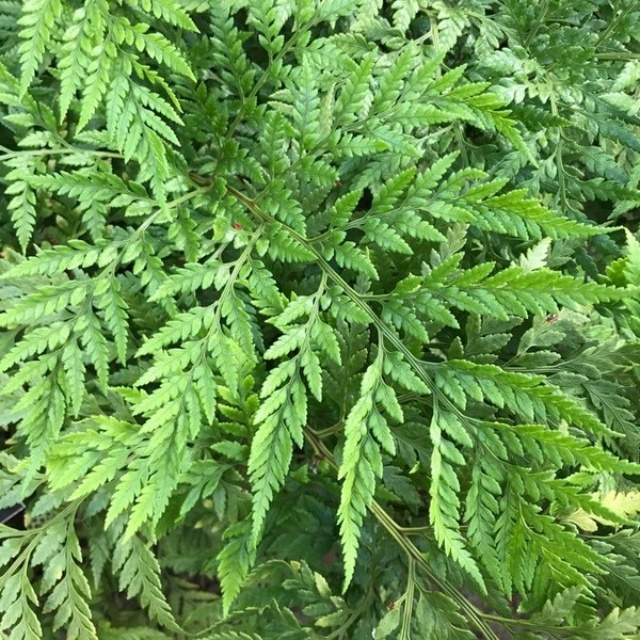obstacle: (45, 20, 603, 594)
